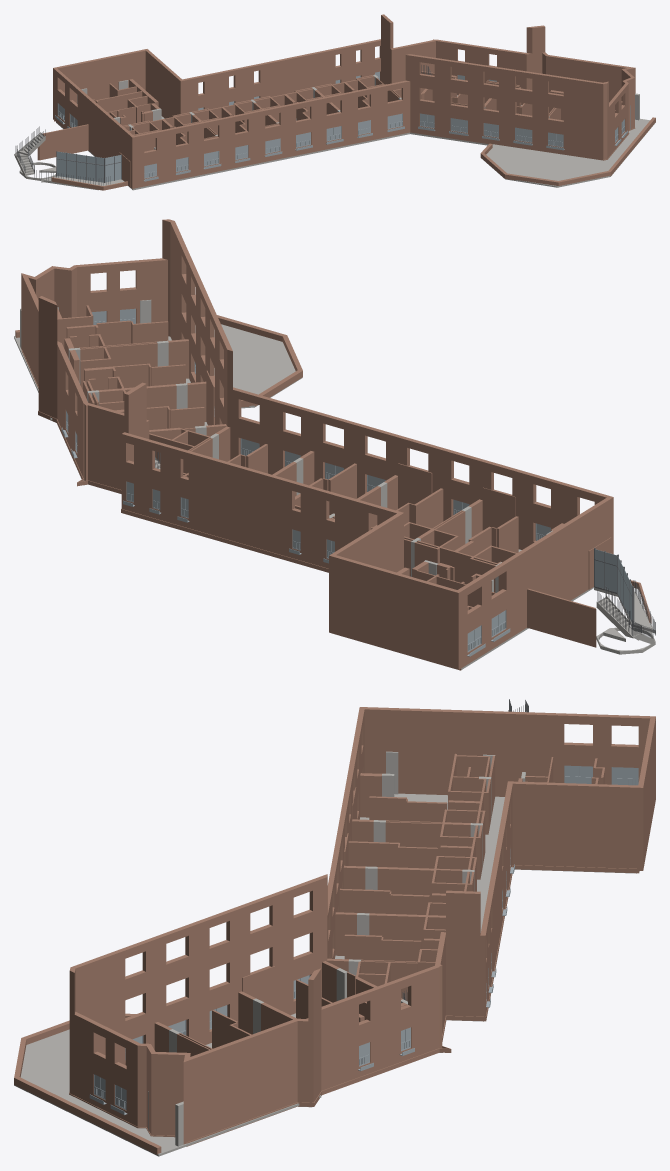
File: revit_nivel_2.glb
The picture shows the model from 3 angles, top to bottom: view 1: azimuth 30°, elevation 25°; view 2: azimuth 150°, elevation 25°; view 3: azimuth 270°, elevation 25°; orthographic projection. The views are drawn at different scales.
Visible parts, largest first — view 1: Revit_PISO 3; view 2: Revit_PISO 3; view 3: Revit_PISO 3.
Part boxes in pixels (left/top/right/bottom): Revit_PISO 3: left=14, top=14, right=655, bottom=190; Revit_PISO 3: left=14, top=219, right=655, bottom=670; Revit_PISO 3: left=14, top=699, right=655, bottom=1156.
Bounding box in the file's own units: 64.78 × 9.25 × 41.96.
